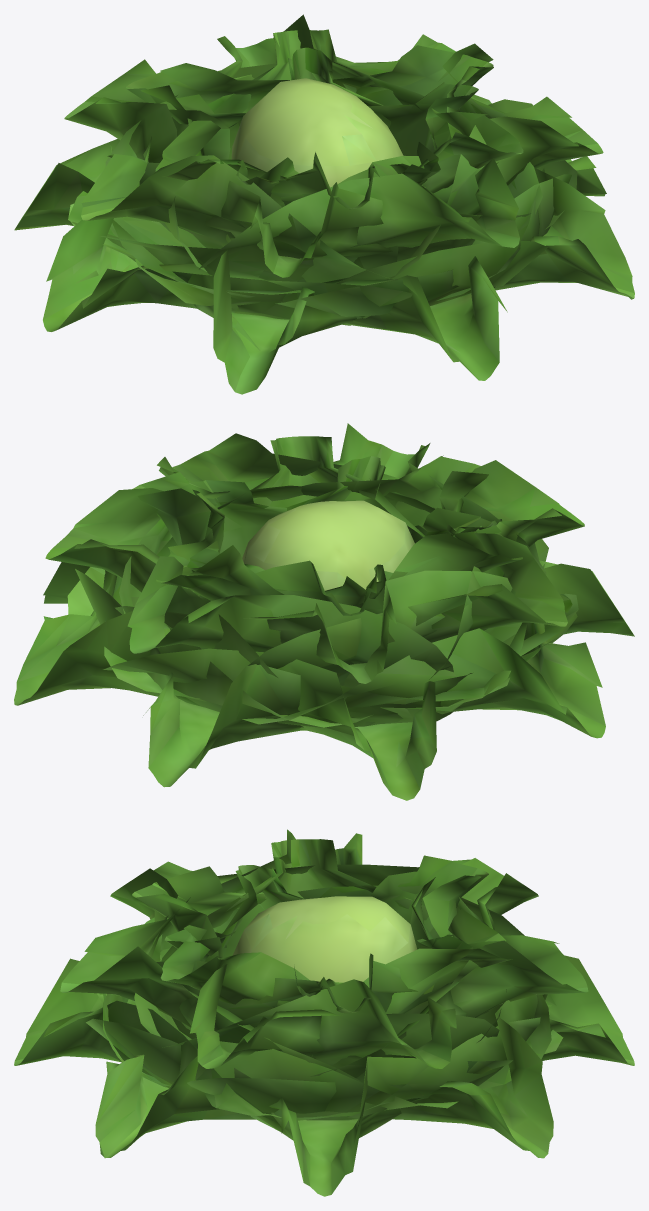
File: crop_lettuce.glb
The picture shows the model from 3 angles, top to bottom: view 1: azimuth 30°, elevation 25°; view 2: azimuth 150°, elevation 25°; view 3: azimuth 270°, elevation 25°; orthographic projection. The views are drawn at different scales.
Visible parts, largest first — view 1: crop_lettuce, fruit; view 2: crop_lettuce, fruit; view 3: crop_lettuce, fruit.
Boxes of the visible parts, box(x1,y1,x2,y2) form: crop_lettuce: box(14, 14, 634, 394); fruit: box(231, 78, 403, 187); crop_lettuce: box(14, 423, 634, 800); fruit: box(242, 500, 414, 590); crop_lettuce: box(14, 829, 634, 1196); fruit: box(232, 896, 417, 982).
Bounding box in the file's own units: 0.2435 × 0.0936 × 0.2435.
Materials: 1 (1 with a texture image).
